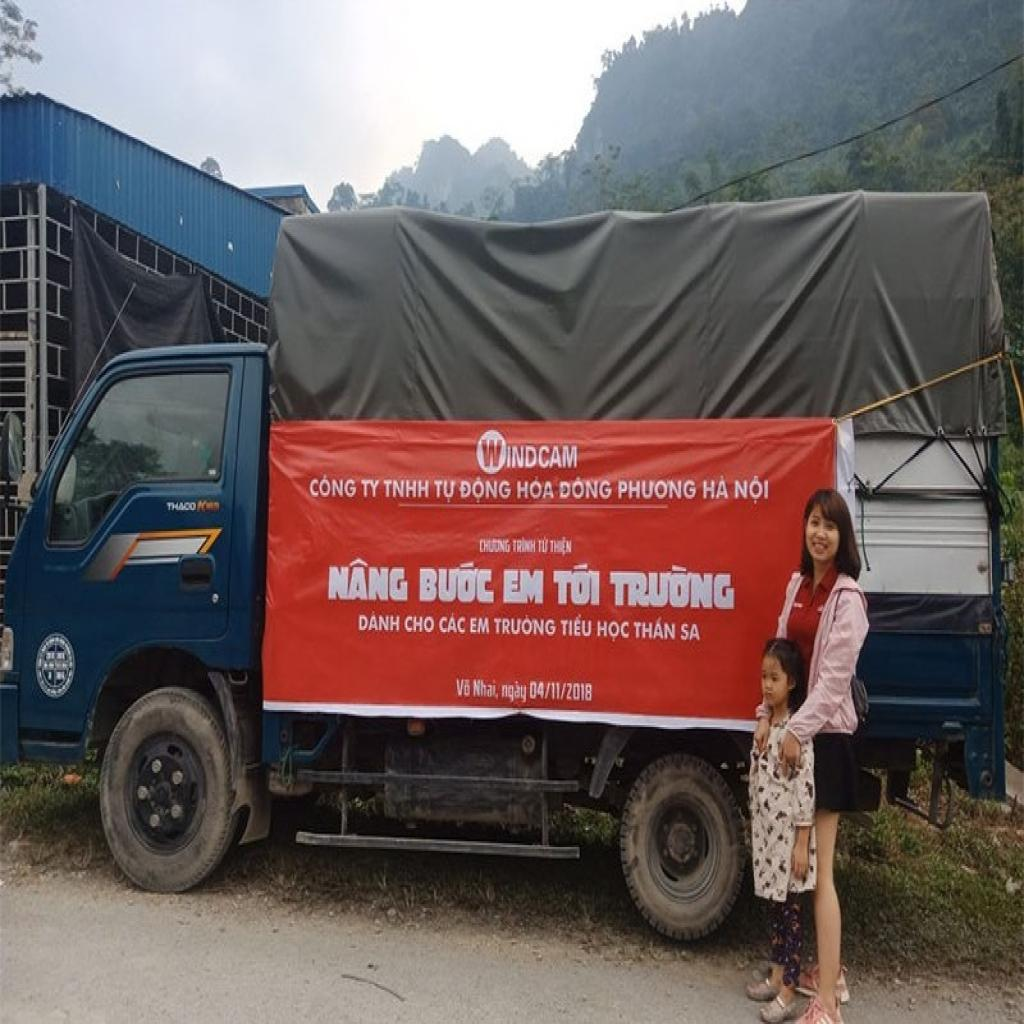text: (608, 560, 737, 614), (326, 556, 411, 605), (417, 560, 498, 609), (552, 562, 604, 609), (617, 476, 699, 502), (506, 444, 580, 472), (502, 567, 546, 609), (492, 611, 558, 639), (458, 474, 514, 506), (558, 474, 614, 502), (308, 472, 358, 501), (734, 472, 770, 508), (632, 615, 678, 643), (357, 607, 402, 634), (516, 474, 557, 502), (382, 478, 432, 500), (558, 613, 595, 639), (596, 619, 632, 645), (702, 472, 732, 503), (478, 438, 506, 470), (403, 613, 437, 637), (438, 611, 468, 638), (477, 535, 512, 558), (472, 676, 500, 702), (500, 680, 528, 706), (549, 533, 575, 560), (433, 478, 458, 506), (678, 621, 704, 645), (467, 614, 492, 638), (510, 535, 538, 556), (165, 499, 199, 514), (360, 478, 382, 500), (454, 676, 474, 700), (536, 533, 550, 558)
